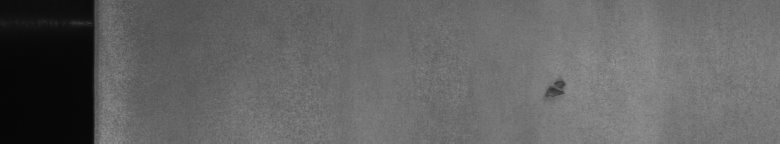fi: (544, 76, 568, 100)
